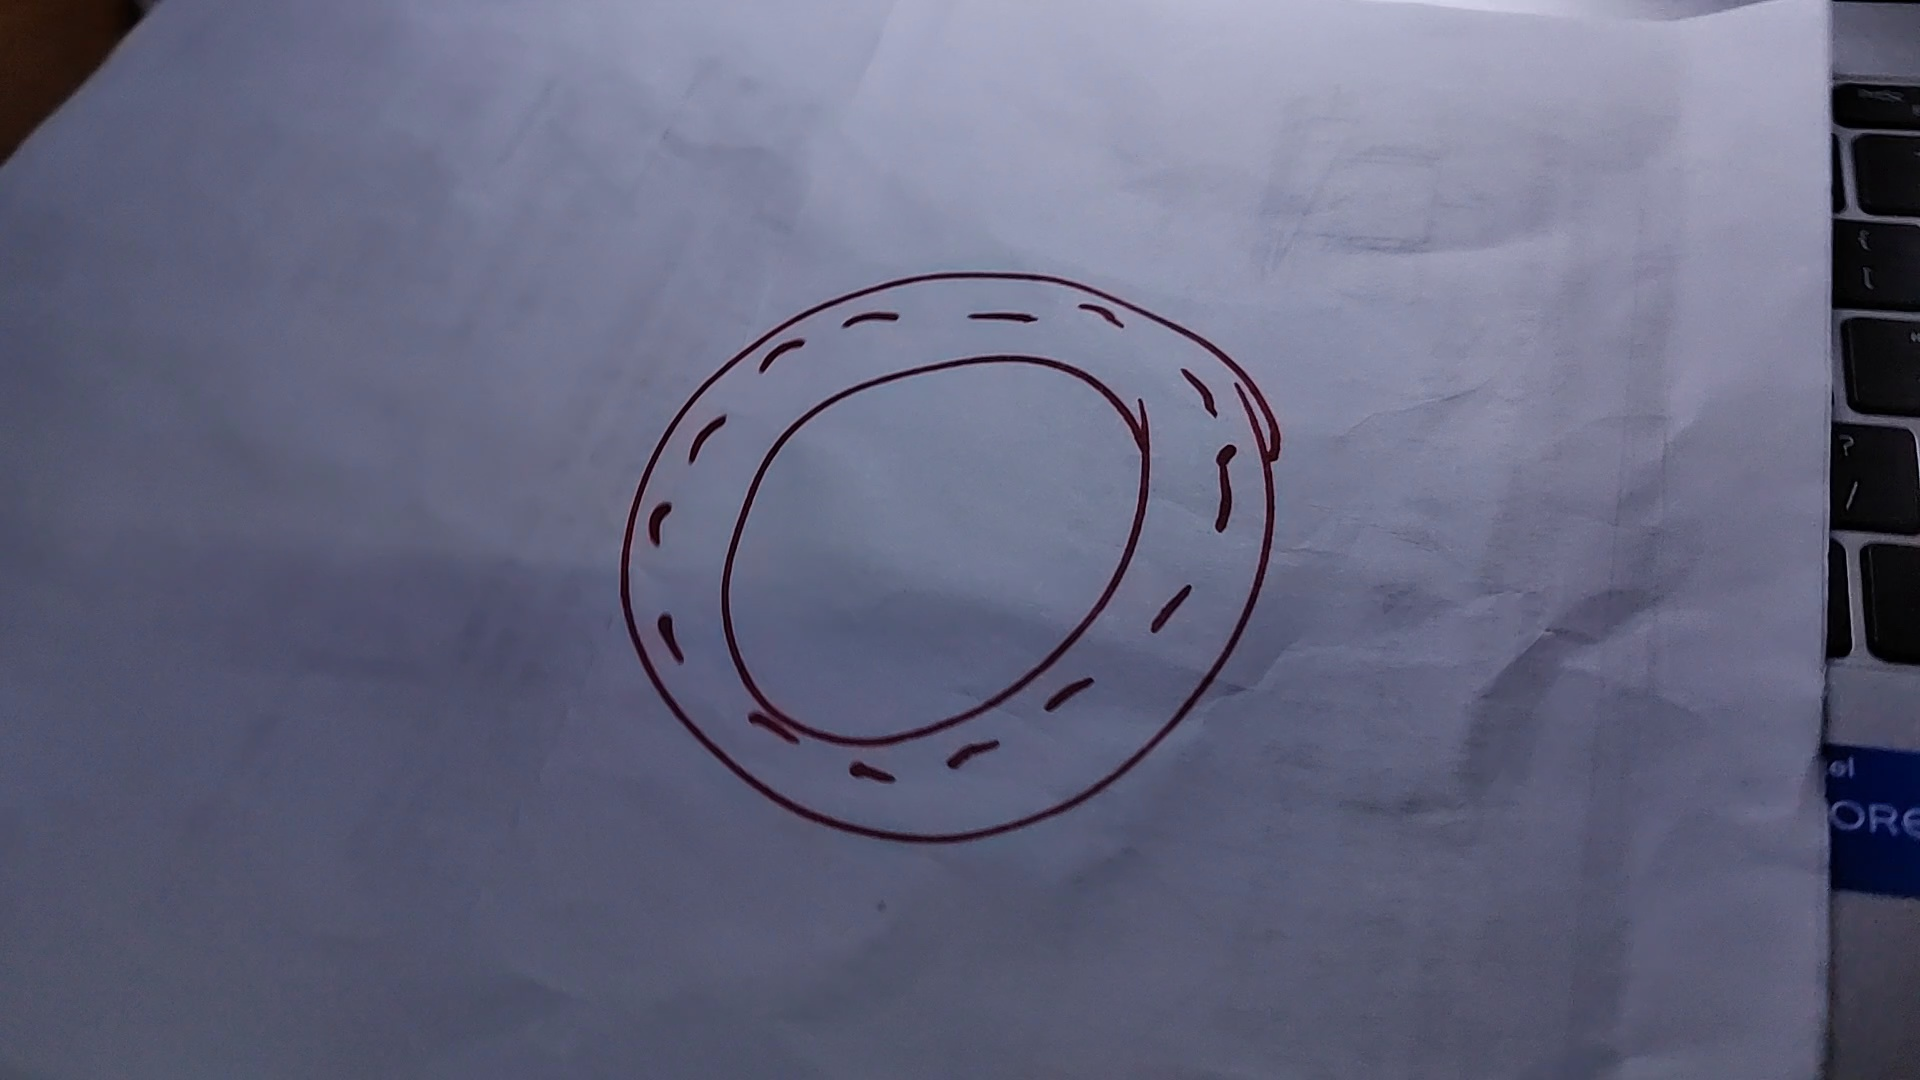circle: (621, 272, 1280, 845)
